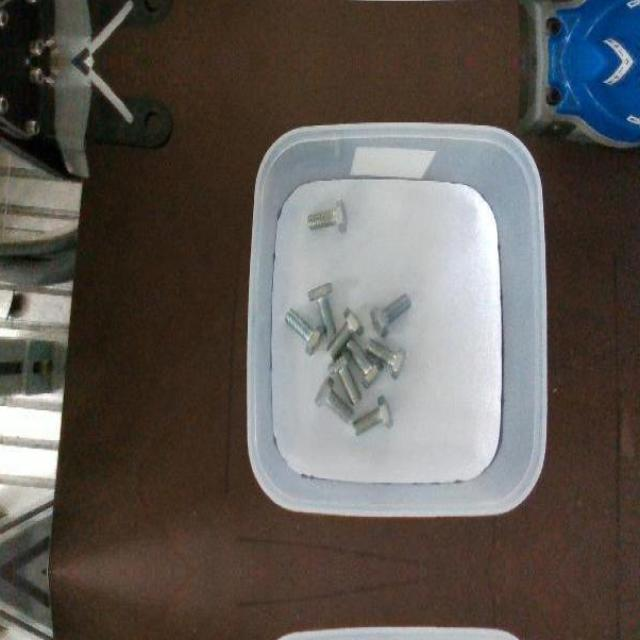screw: (283, 307, 325, 356), (328, 348, 362, 404), (315, 376, 354, 423), (370, 292, 410, 336), (308, 282, 337, 338), (366, 338, 406, 378), (306, 198, 348, 234)
